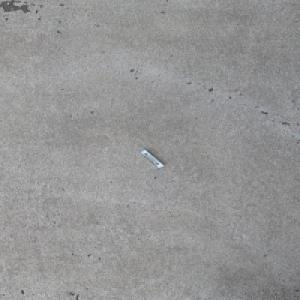ClampPart: (138, 149, 164, 168)
